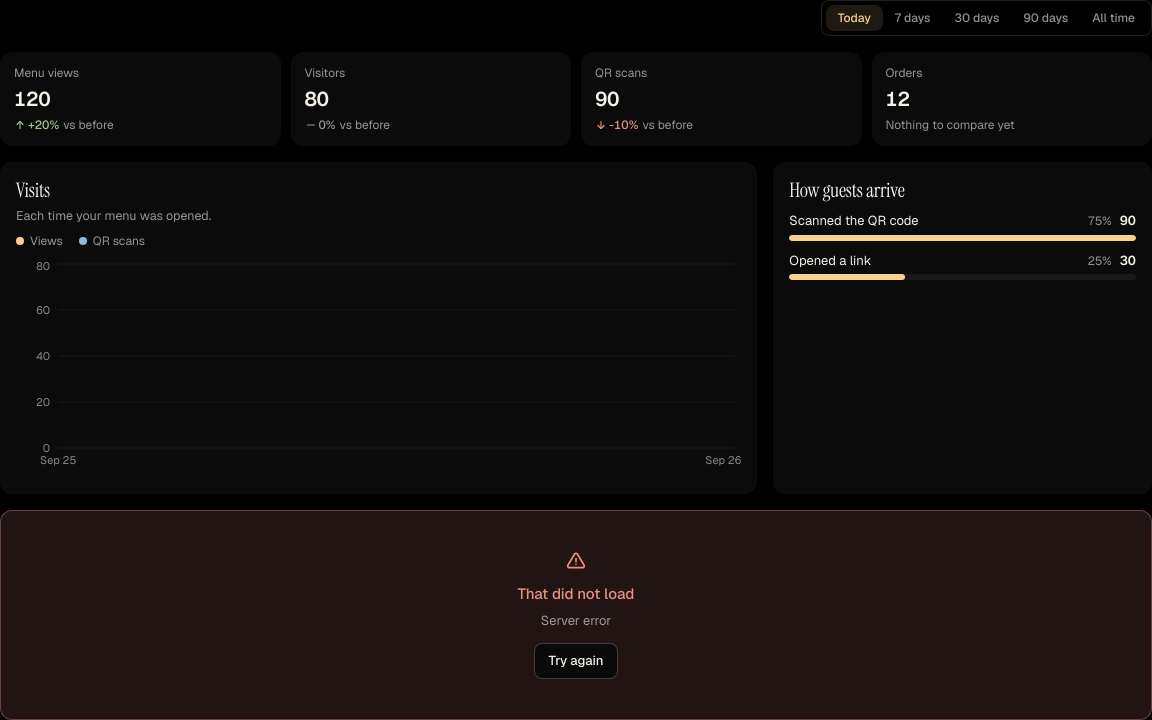
Scenario: AnalyticsPage › with advanced analytics › retries only the advanced part
Click the button "Try again". click: coordinates (576, 661)
box: [534, 643, 618, 679]
(page scrolled)
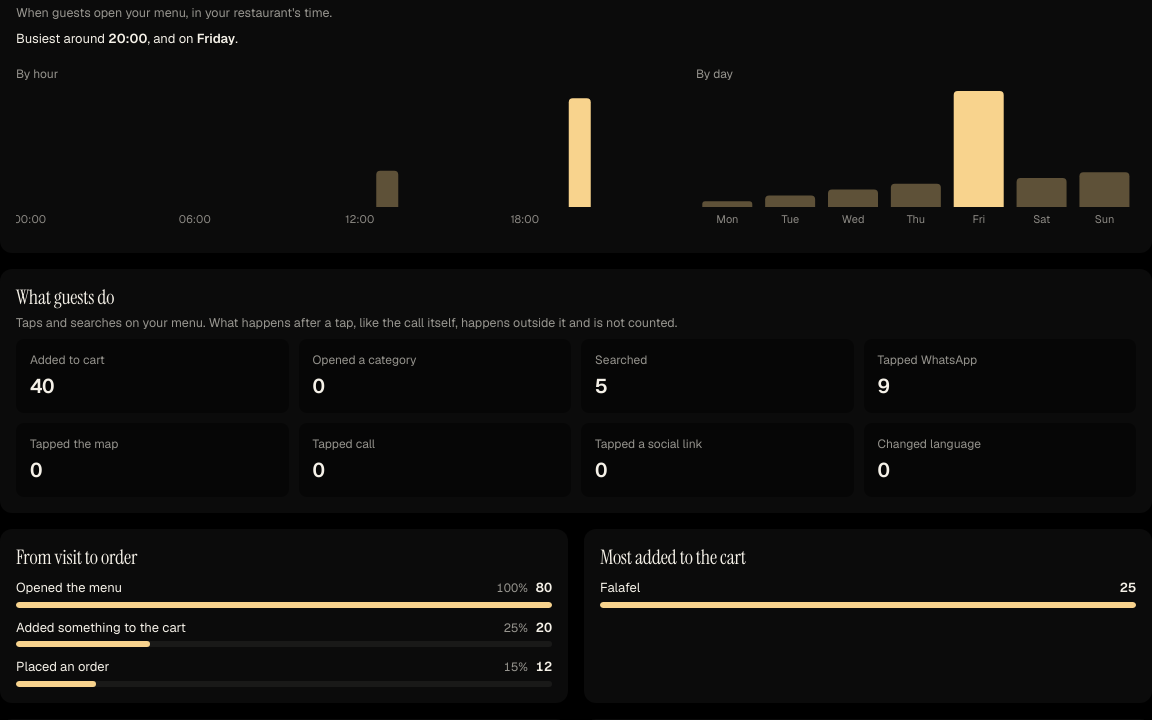
expect the text "Tapped WhatsApp" is shown: met, box [878, 352, 977, 368]
